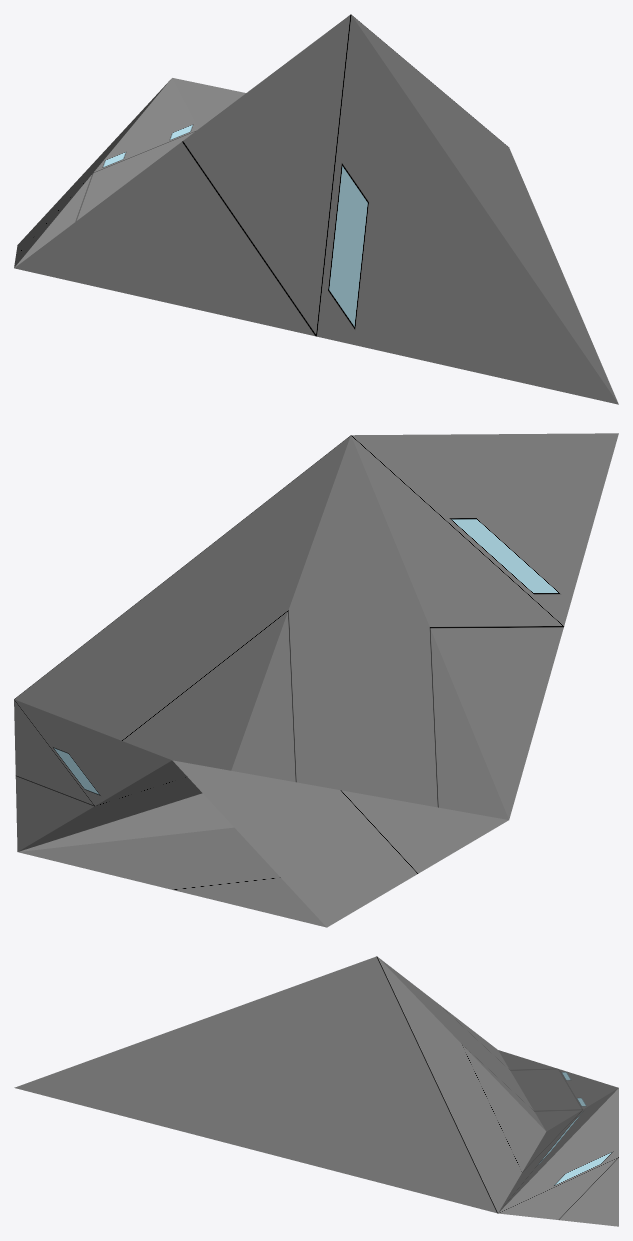
The model's file is wedge_ship_mk2.obj.
3 views of the same model, one above another, from view 1: azimuth 30°, elevation 25°; view 2: azimuth 150°, elevation 25°; view 3: azimuth 270°, elevation 25° (orthographic). The views are drawn at different scales.
Size of the model in its own units: 1.6 by 1 by 2.5.
1 material, 1 textured.
